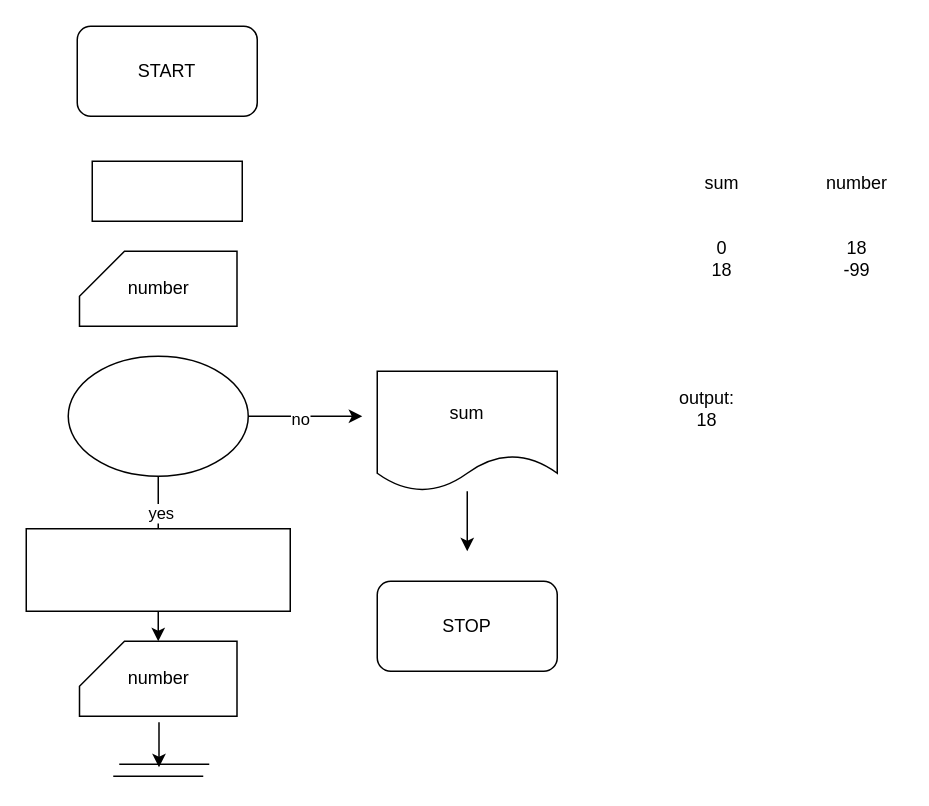
Some shapes in this 929 by 806 pixel diagram are drawn without their labels. The centre of each missing label's shape, as x and y in pixels:
sum = 0: the point at 166,190
sum = sum + number: the point at 157,569
while number != -99: the point at 157,415
